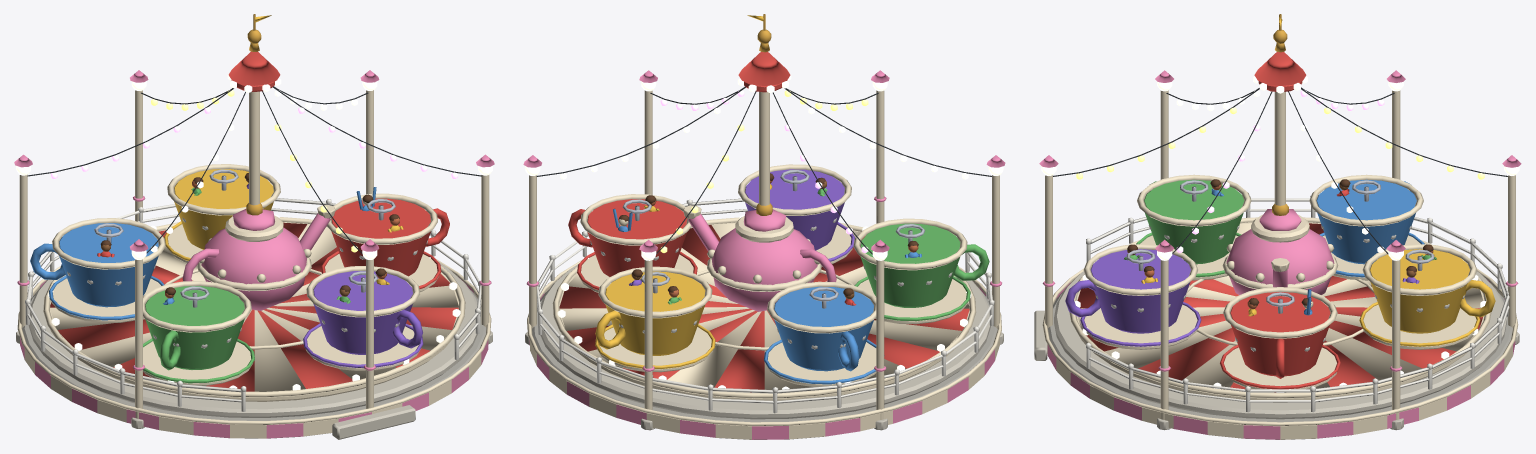
Rendered from teacups.glb.
3 renders of one model, left to right at view 1: azimuth 30°, elevation 25°; view 2: azimuth 150°, elevation 25°; view 3: azimuth 270°, elevation 25°, orthographic.
Visible parts, largest first — view 1: spin_pw_cream_paint, base_pw_cream_paint, base_pw_stone, spin_pw_accent_paint, spin_pw_green_paint, spin_pw_pink_paint, spin_pw_blue_paint, spin_pw_purple_paint, spin_pw_red_paint, base_pw_white_paint, base_pw_pink_paint, spin_pw_yellow_paint (+8 smaller); view 2: spin_pw_cream_paint, base_pw_cream_paint, base_pw_stone, spin_pw_accent_paint, spin_pw_blue_paint, spin_pw_pink_paint, spin_pw_green_paint, spin_pw_yellow_paint, base_pw_white_paint, spin_pw_red_paint, base_pw_pink_paint, spin_pw_purple_paint (+8 smaller); view 3: spin_pw_cream_paint, base_pw_cream_paint, base_pw_stone, spin_pw_yellow_paint, spin_pw_purple_paint, spin_pw_red_paint, spin_pw_accent_paint, base_pw_white_paint, spin_pw_blue_paint, spin_pw_green_paint, spin_pw_pink_paint, base_pw_pink_paint (+8 smaller).
Boxes of the visible parts, <box> form: spin_pw_cream_paint: <box>43,164,465,401</box>; base_pw_cream_paint: <box>17,90,491,438</box>; base_pw_stone: <box>16,263,492,439</box>; spin_pw_accent_paint: <box>50,222,458,391</box>; spin_pw_green_paint: <box>143,187,350,383</box>; spin_pw_pink_paint: <box>182,209,330,310</box>; spin_pw_blue_paint: <box>30,187,376,320</box>; spin_pw_purple_paint: <box>246,183,423,367</box>; spin_pw_red_paint: <box>97,198,449,289</box>; base_pw_white_paint: <box>25,198,481,411</box>; base_pw_pink_paint: <box>14,70,494,438</box>; spin_pw_yellow_paint: <box>164,169,403,284</box>; spin_pw_cream_paint: <box>552,164,976,400</box>; base_pw_cream_paint: <box>527,90,1001,439</box>; base_pw_stone: <box>525,264,1003,430</box>; spin_pw_accent_paint: <box>559,225,969,392</box>; spin_pw_blue_paint: <box>612,208,921,384</box>; spin_pw_pink_paint: <box>688,209,836,311</box>; spin_pw_green_paint: <box>668,188,989,321</box>; spin_pw_yellow_paint: <box>595,184,772,369</box>; base_pw_white_paint: <box>536,198,994,413</box>; spin_pw_red_paint: <box>568,199,856,305</box>; base_pw_pink_paint: <box>523,70,1005,439</box>; spin_pw_purple_paint: <box>629,169,855,285</box>; spin_pw_cream_paint: <box>1069,174,1491,402</box>; base_pw_cream_paint: <box>1042,90,1518,439</box>; base_pw_stone: <box>1034,271,1519,430</box>; spin_pw_yellow_paint: <box>1141,249,1495,346</box>; spin_pw_purple_paint: <box>1065,249,1419,346</box>; spin_pw_red_paint: <box>1220,189,1349,389</box>; spin_pw_accent_paint: <box>1077,223,1482,392</box>; base_pw_white_paint: <box>1086,196,1509,412</box>; spin_pw_blue_paint: <box>1211,179,1424,315</box>; spin_pw_green_paint: <box>1124,179,1436,277</box>; spin_pw_pink_paint: <box>1226,209,1334,294</box>; base_pw_pink_paint: <box>1039,70,1521,439</box>.
Size of the model in its own units: 2.92 by 2.22 by 2.99.
